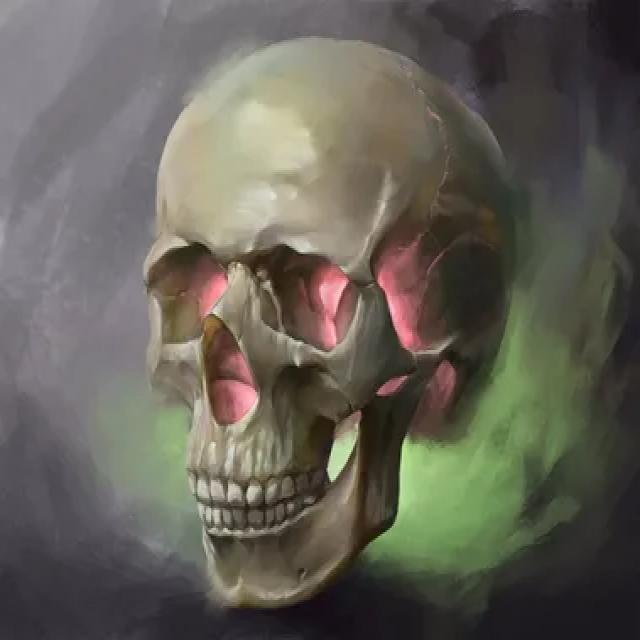skull: (142, 31, 538, 615)
